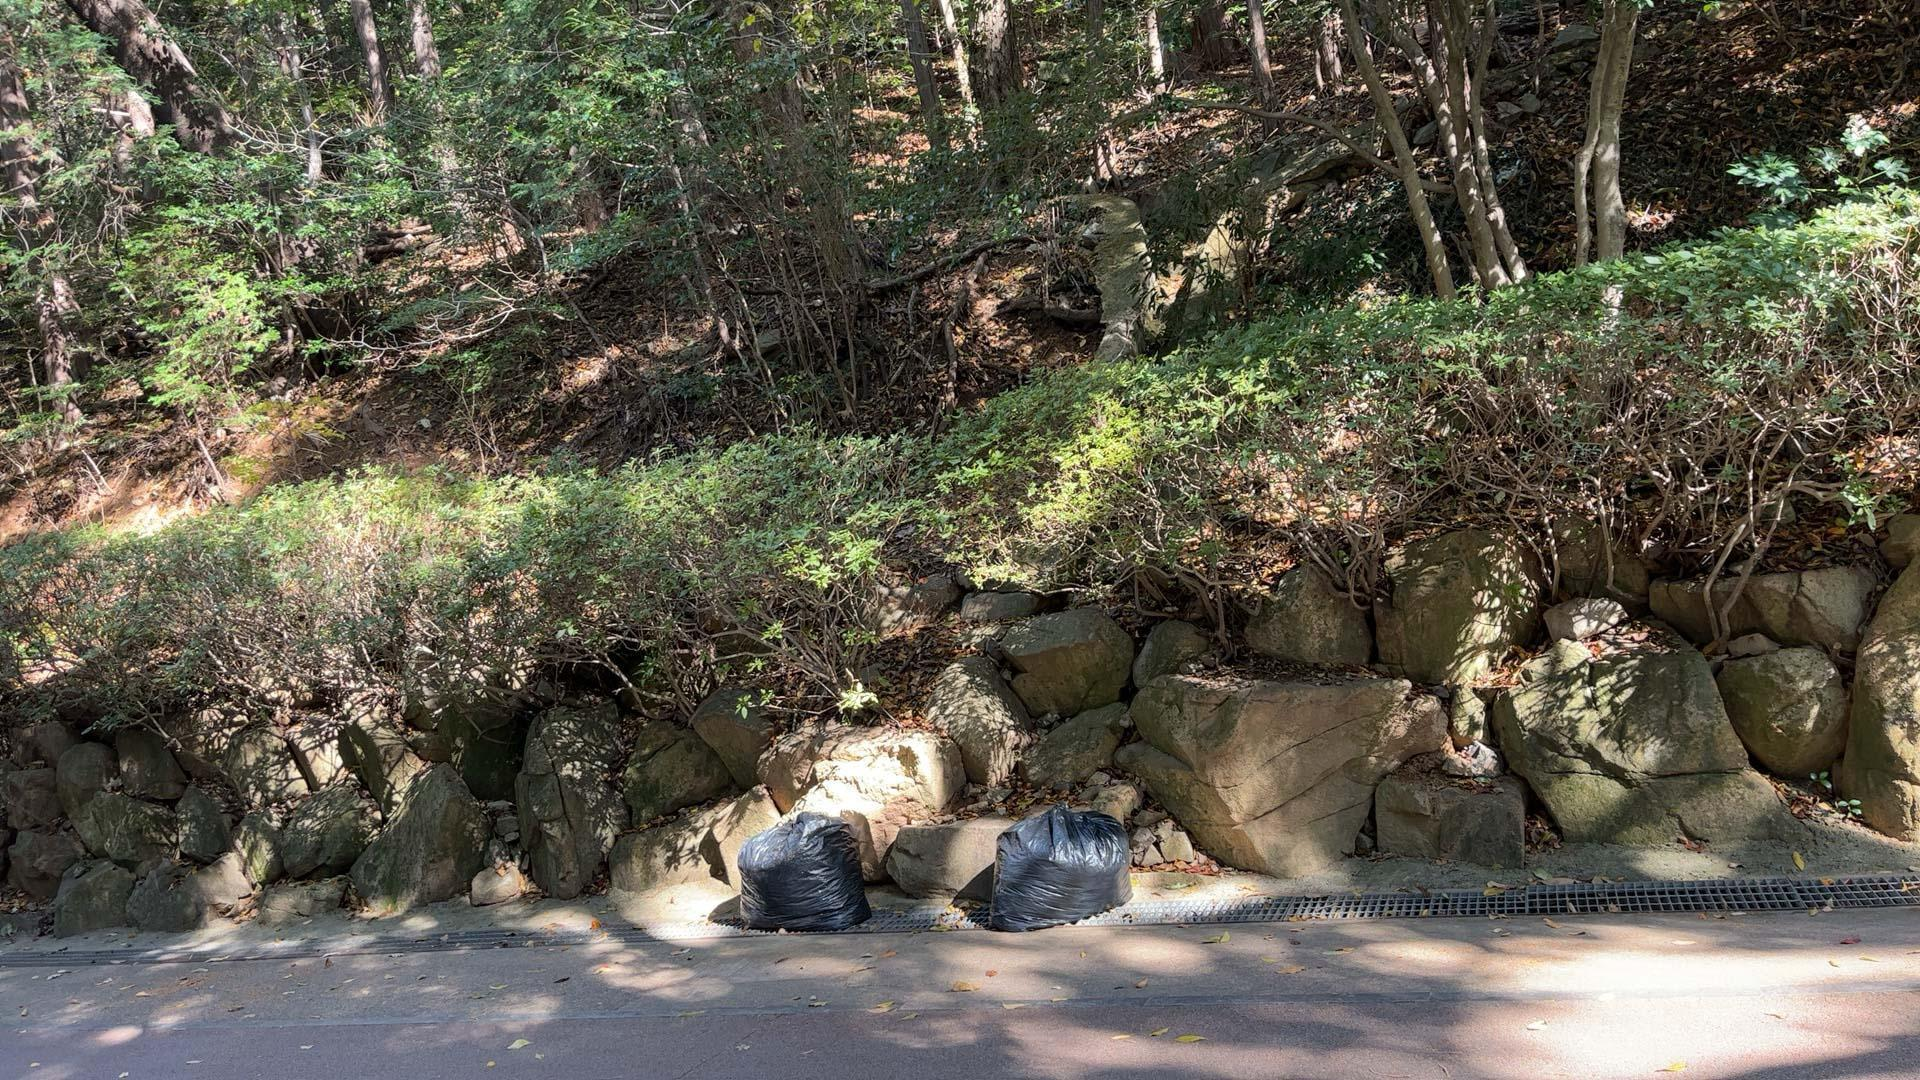black_bag: (985, 798, 1142, 932), (731, 808, 877, 932)
